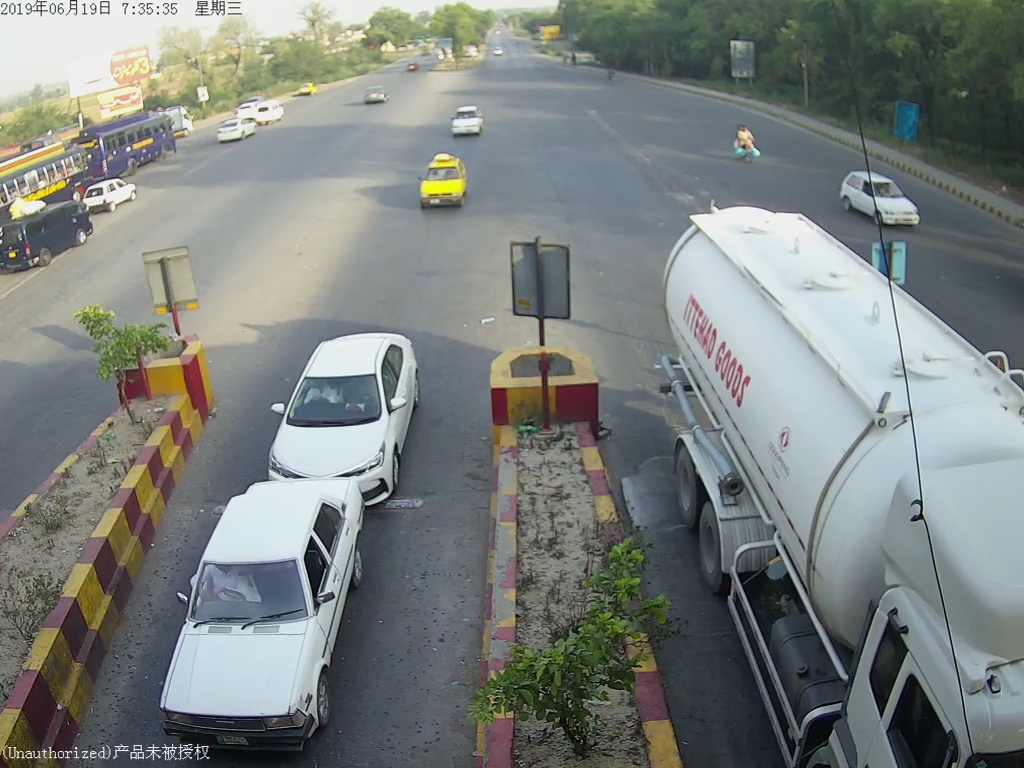Cat-1: (161, 483, 373, 749), (265, 324, 421, 478), (407, 149, 473, 215)
